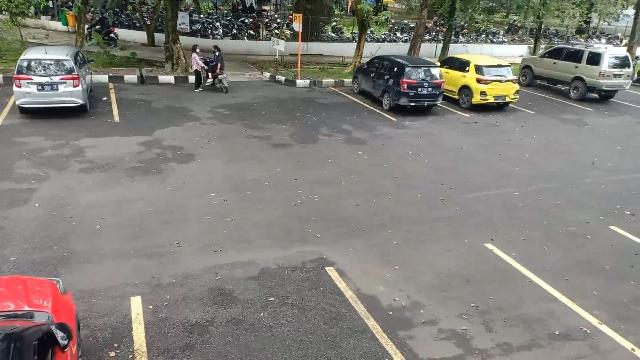empty: (364, 244, 594, 360), (133, 268, 367, 360)
occupied: (9, 59, 116, 123), (528, 48, 636, 110), (352, 60, 446, 121), (445, 70, 521, 116)
